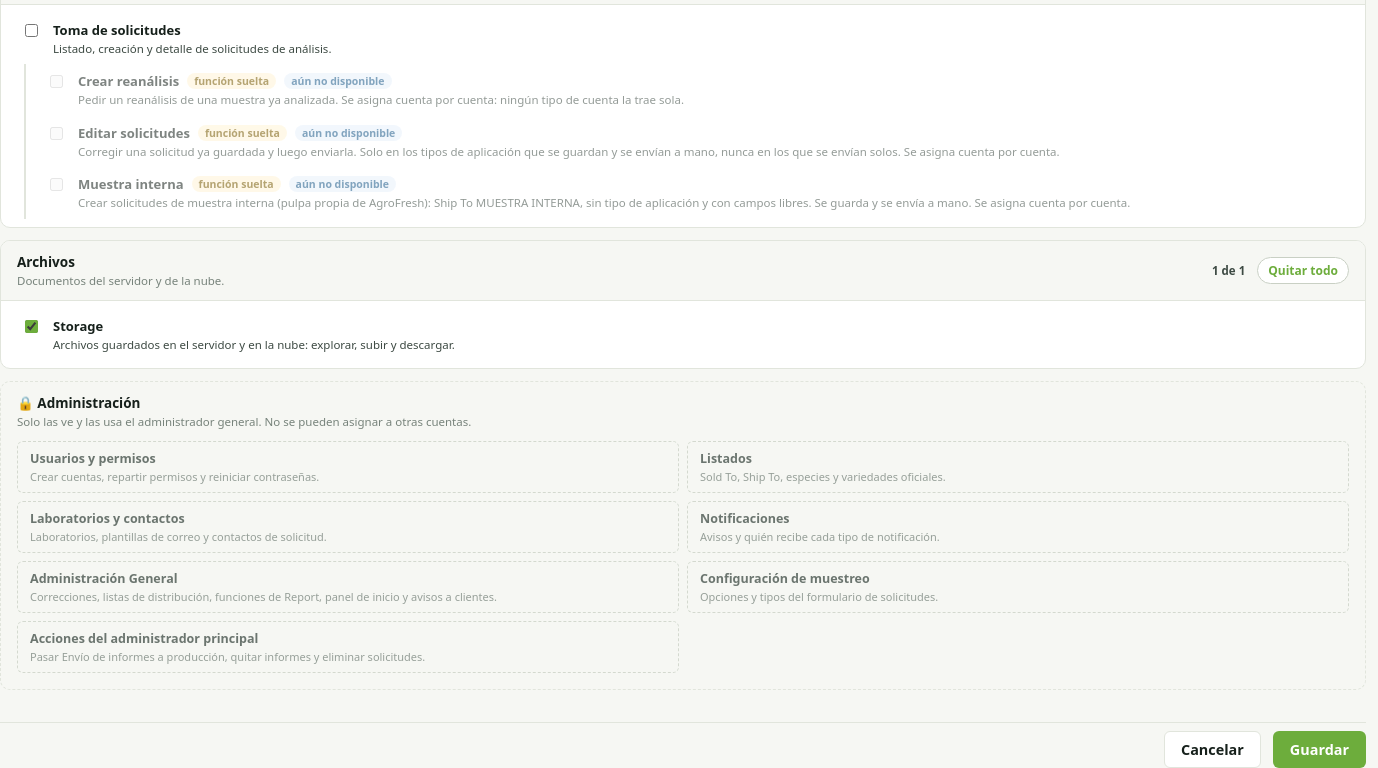
Test: UsuarioForm: cuenta de comercial › no deja guardar un comercial sin plantas
The image size is (1378, 768).
(page scrolled)
Click the button "Guardar": (1319, 750) [1273,731,1366,767]
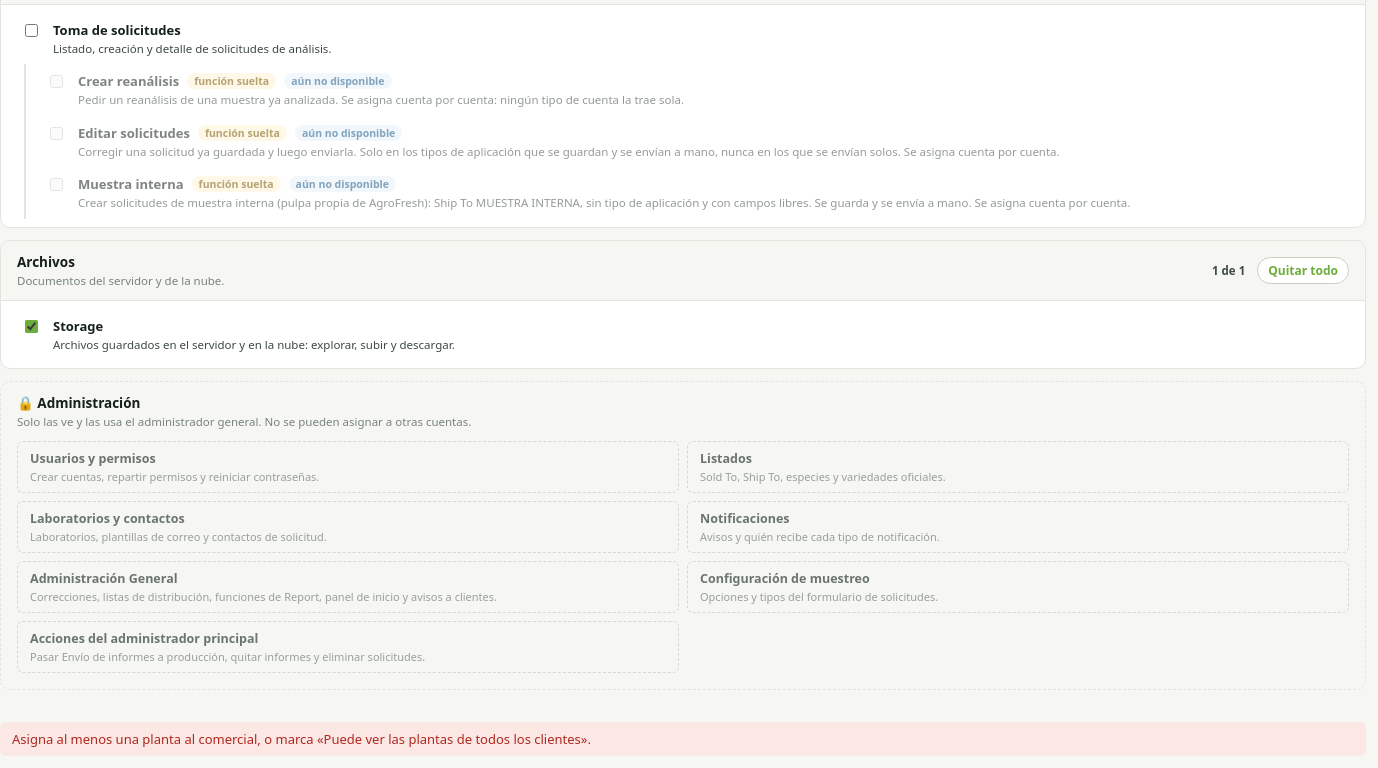
Result: the text "al menos una planta" is shown at [12,730,591,748]
